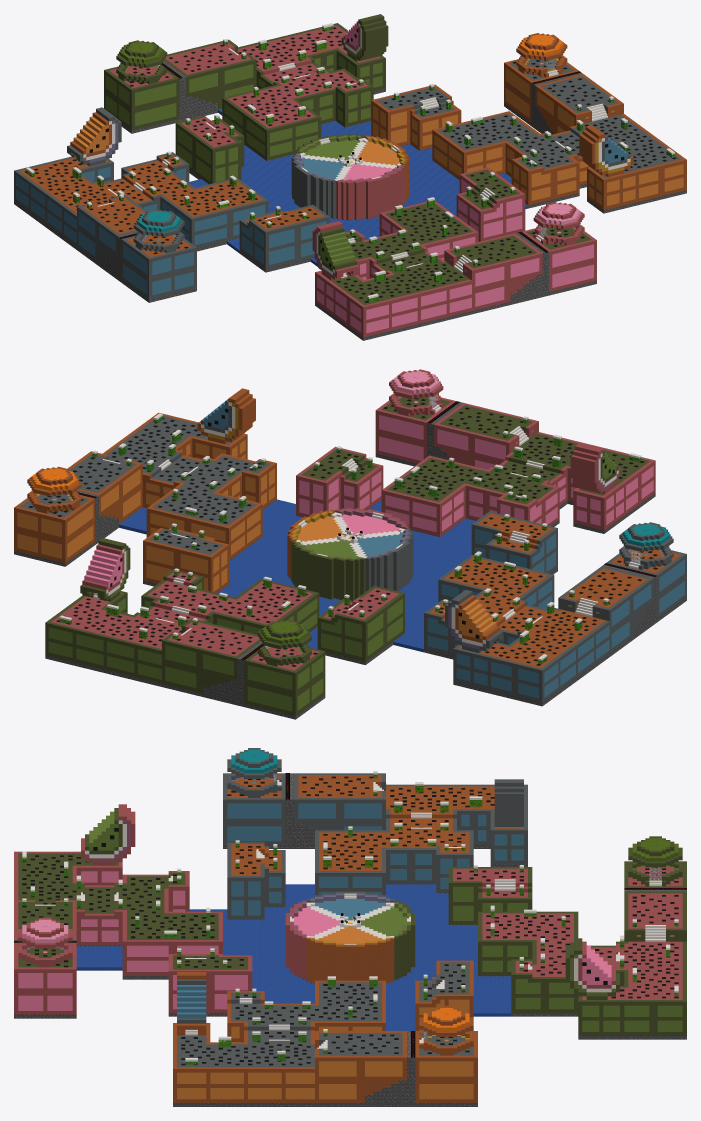
File: minecraft.obj
The picture shows the model from 3 angles, top to bottom: view 1: azimuth 30°, elevation 25°; view 2: azimuth 150°, elevation 25°; view 3: azimuth 270°, elevation 25°; orthographic projection. The views are drawn at different scales.
Bounding box in the file's own units: 161 × 23 × 161.
